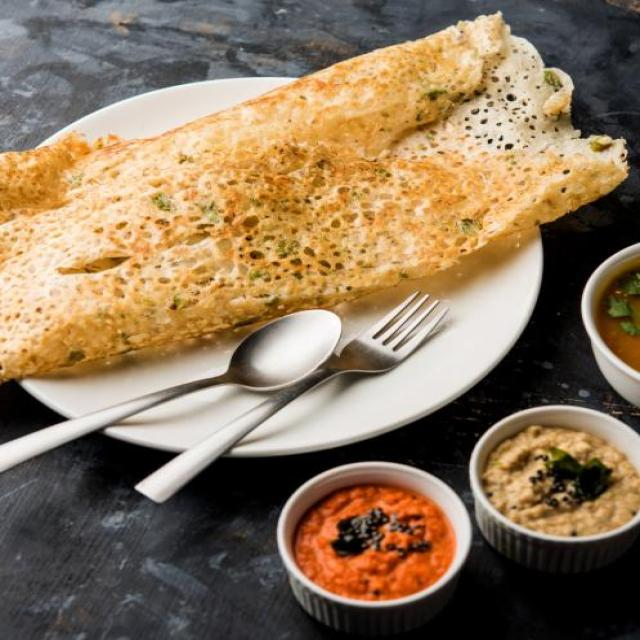DOSA: (0, 15, 627, 379)
